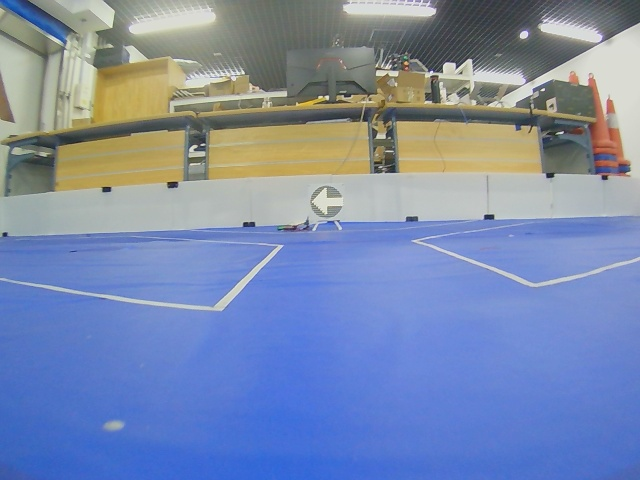left_yellow: (310, 186, 344, 218)
